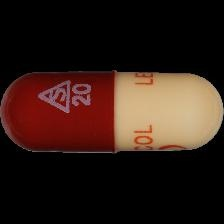54868-3329: (0, 0, 224, 224)
